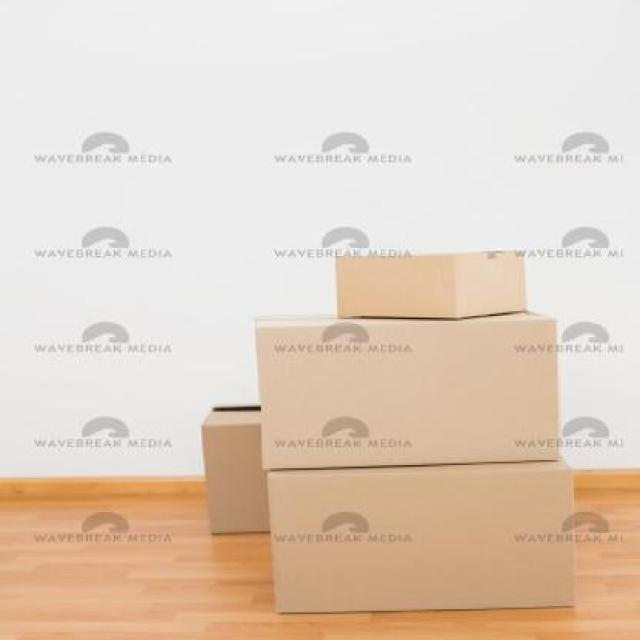box: (252, 451, 596, 635), (238, 312, 592, 471), (326, 232, 546, 329), (193, 406, 285, 553)
